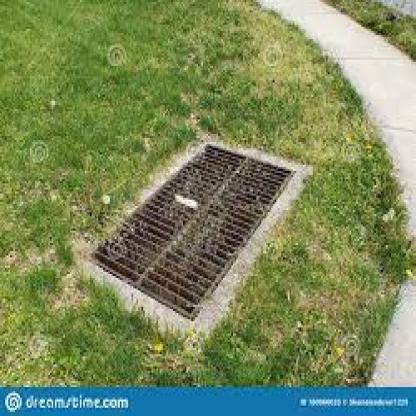closed manhole-not overflowing-: (87, 141, 297, 320)
